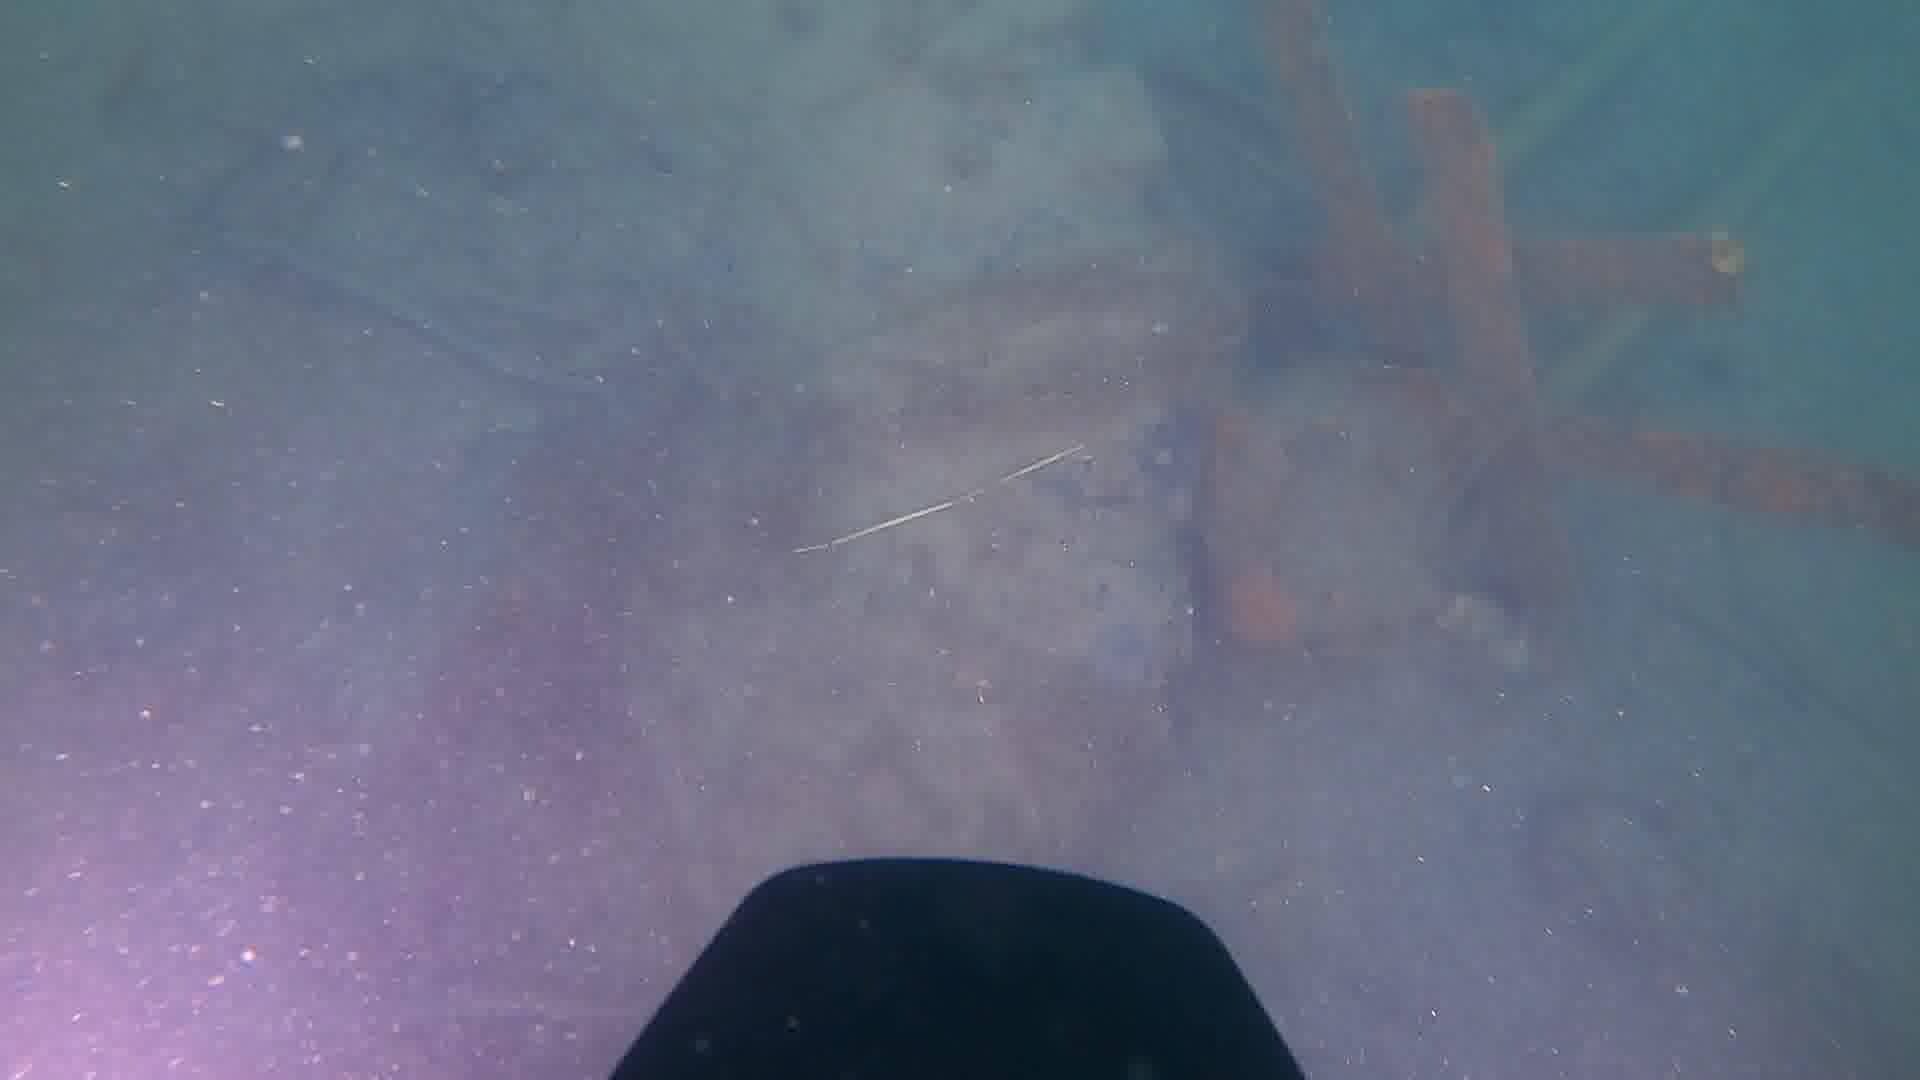tire: (0, 0, 1192, 949)
